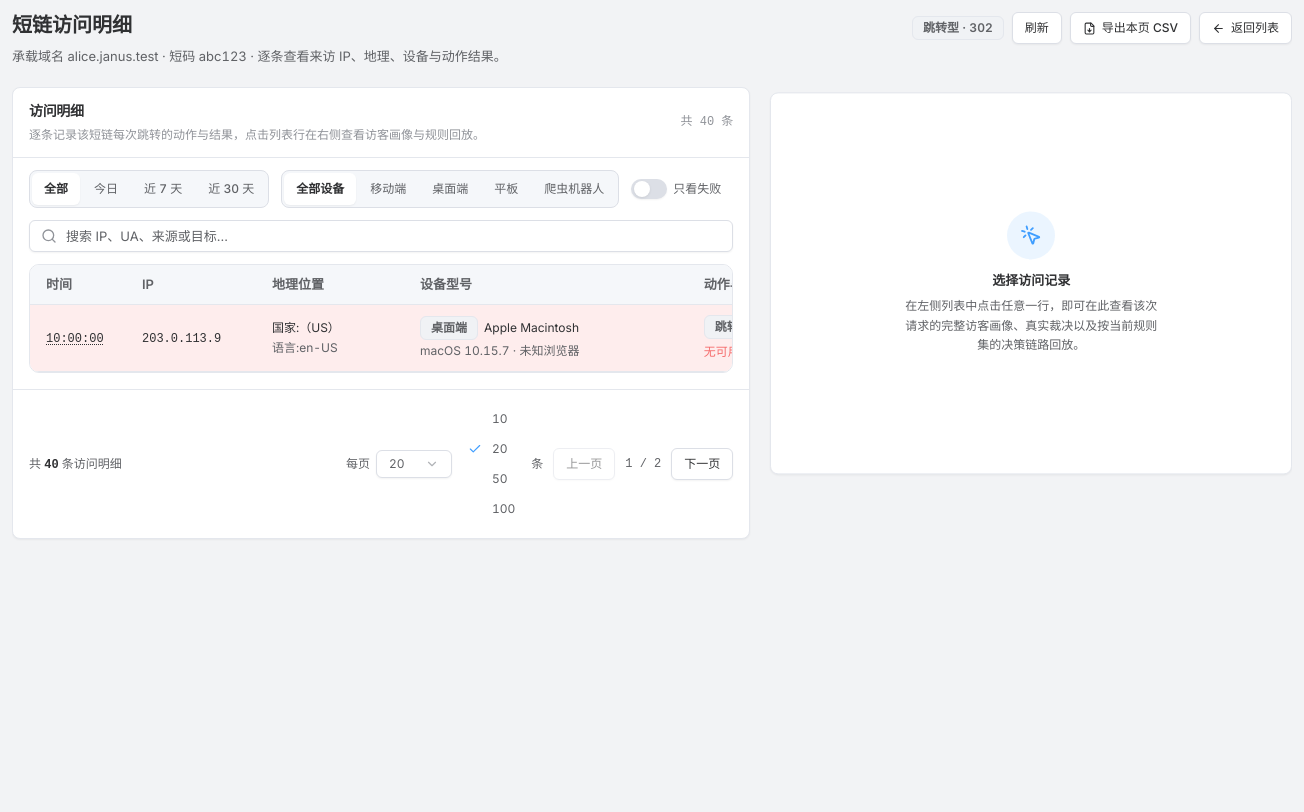
Test case: LinkVisitsView 关键词搜索 › Given 服务端按关键词返回 total, Then 总数与分页都按筛选后的结果集
In the field named "搜索访问明细": (381,236) [29,220,733,252], type "203.0.113.9"
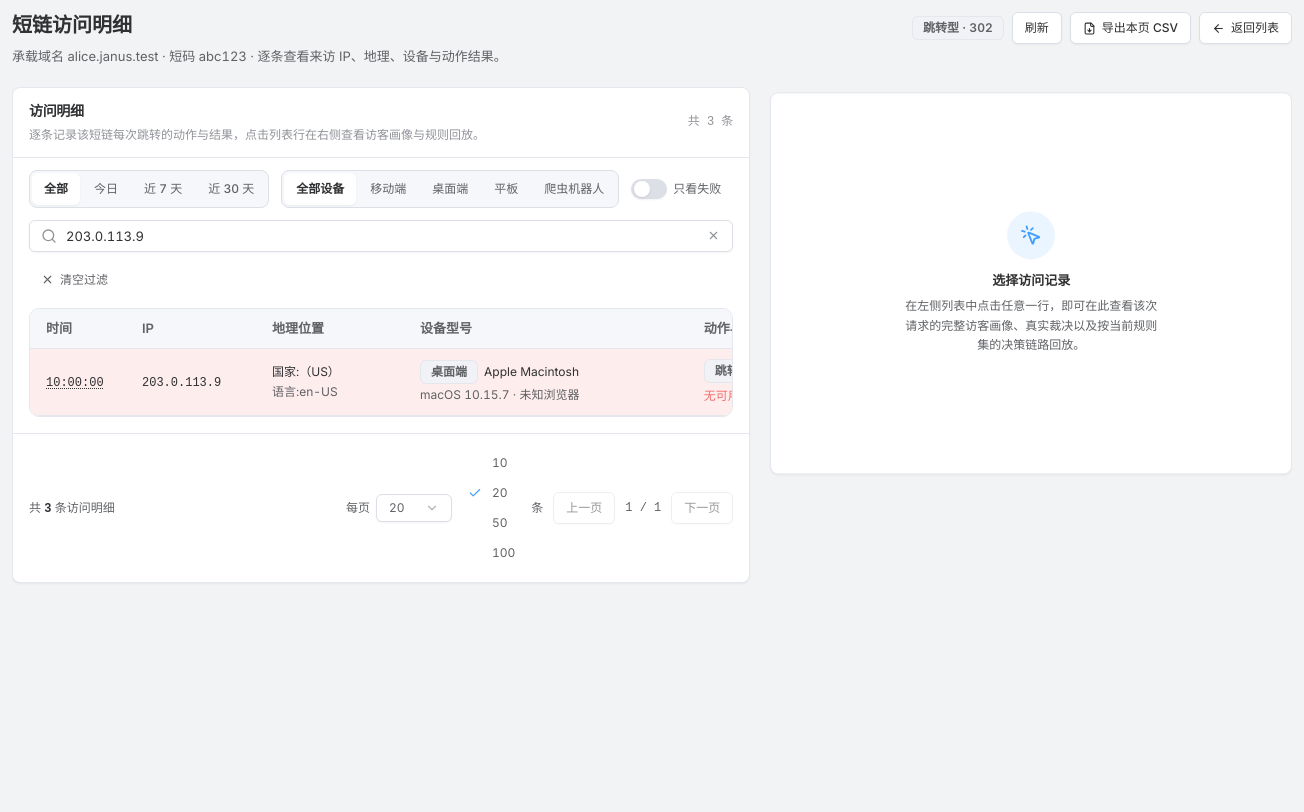
Check: the text "共 3 条访问明细" is shown, box [29,499,115,518]
Check: the text "1 / 1" is shown, box [625,501,661,515]
